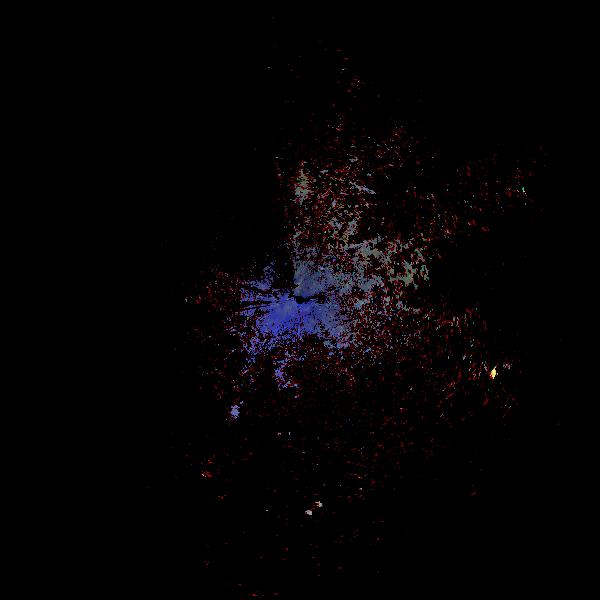roost: (315, 500, 324, 509), (305, 508, 314, 517), (284, 432, 293, 441)
